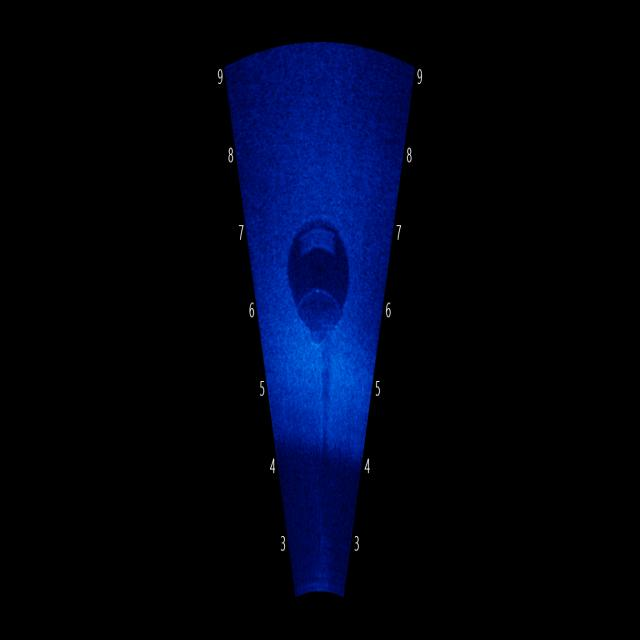circle: (275, 193, 364, 356)
